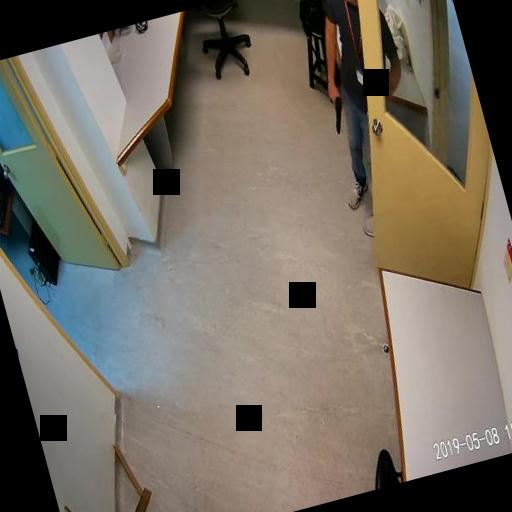Handgun: (324, 88, 346, 132)
